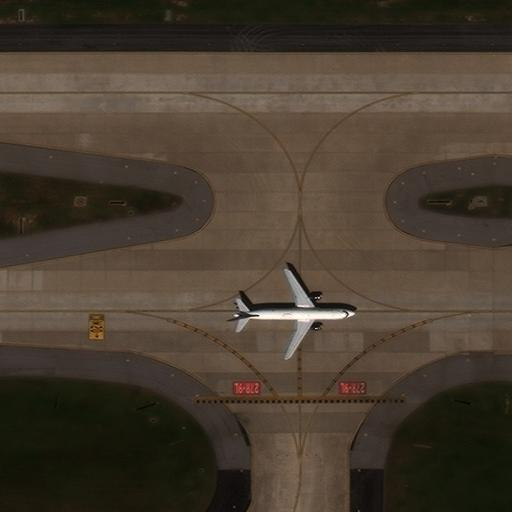Medium Civil Transport: (231, 268, 357, 359)
